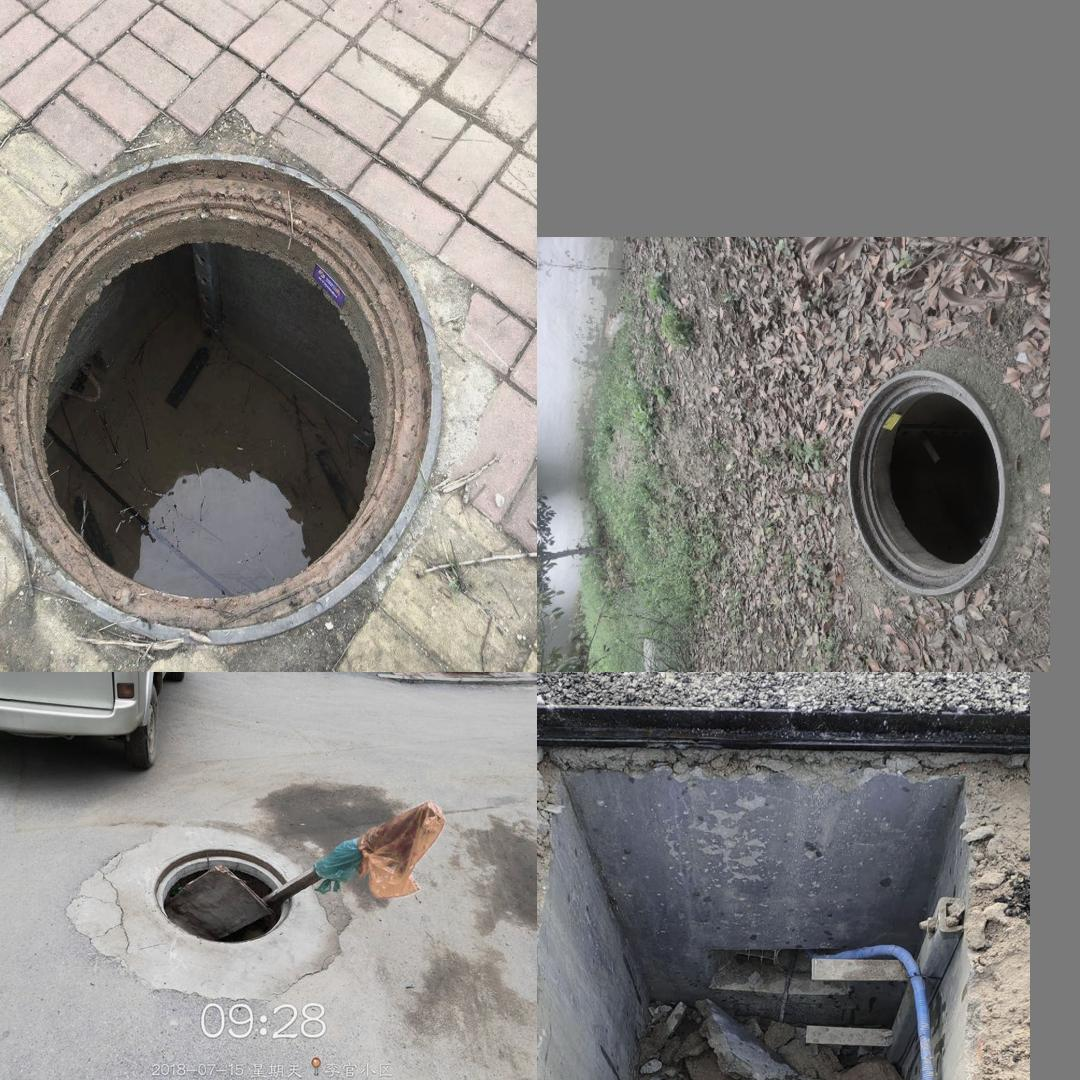lose: (0, 140, 446, 626), (538, 694, 1023, 1080), (846, 368, 1005, 595), (130, 837, 306, 955)
